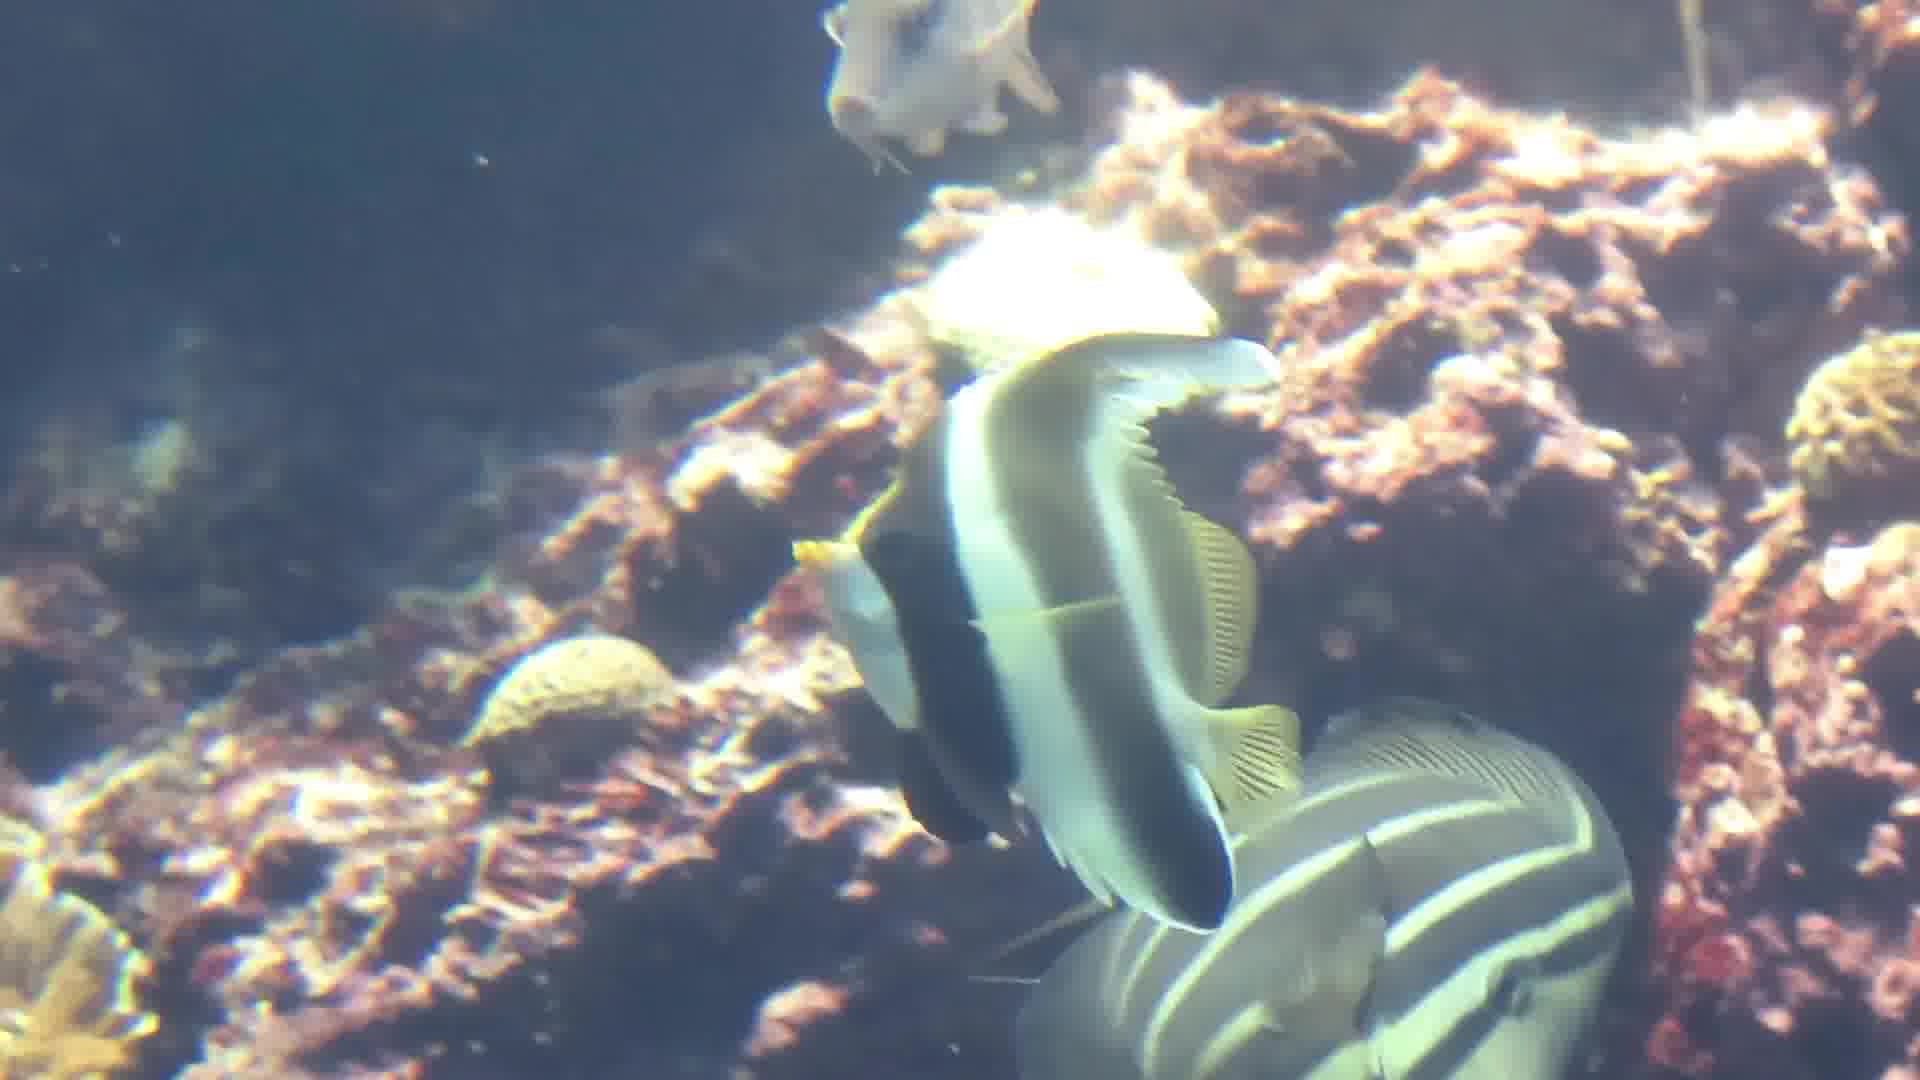Heniochus chrysostomus: (744, 314, 1386, 963)
